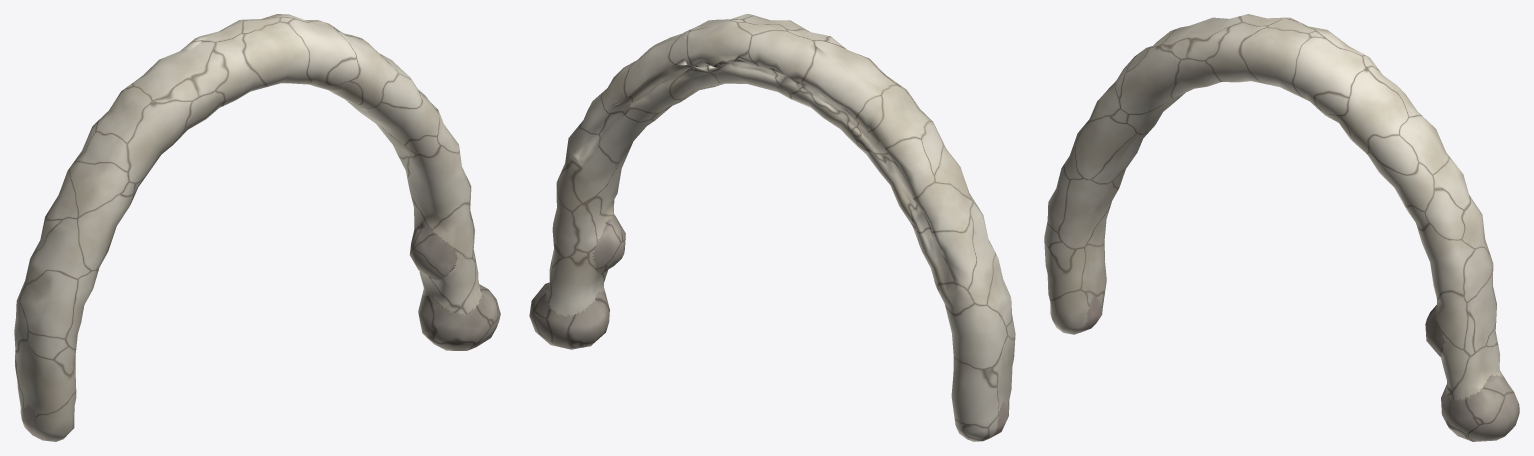
The model's file is hueso_suelto_b.fbx.
3 views of the same model, side by side, from view 1: azimuth 30°, elevation 25°; view 2: azimuth 150°, elevation 25°; view 3: azimuth 330°, elevation 25° (orthographic). The views are drawn at different scales.
Visible parts, largest first — view 1: costilla; view 2: costilla; view 3: costilla.
Part boxes in pixels (bbox=[...]): costilla: bbox=[14, 14, 500, 441]; costilla: bbox=[529, 14, 1015, 441]; costilla: bbox=[1044, 14, 1519, 441].
Size of the model in its own units: 2 by 1.5 by 0.3013.
1 material, 1 textured.
